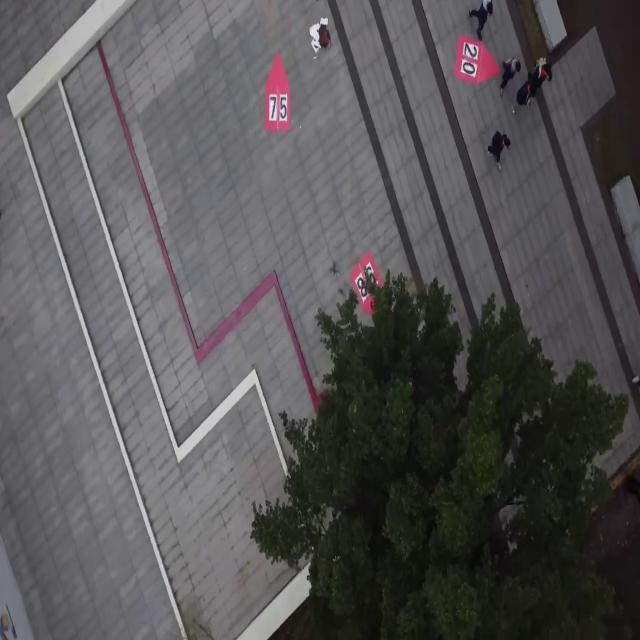-sign-: (350, 250, 385, 317), (456, 34, 501, 86), (264, 50, 292, 132)
